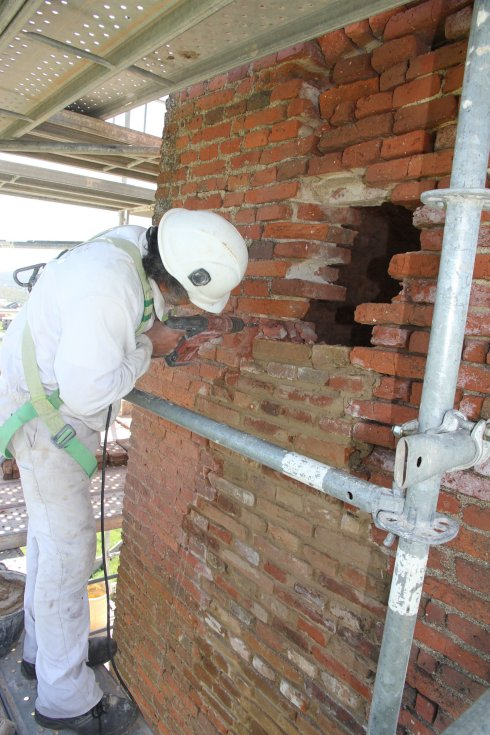casco: (156, 206, 250, 318)
